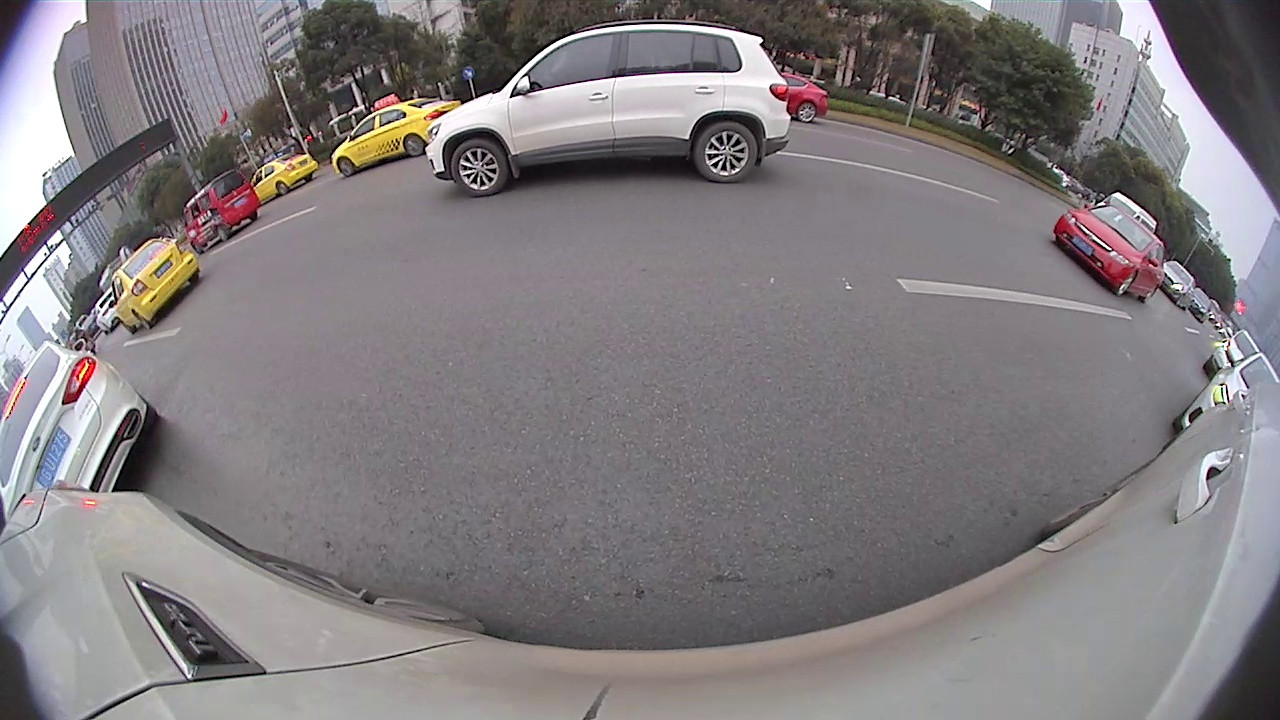car: (428, 22, 787, 194), (1, 343, 156, 526), (1051, 203, 1167, 301), (330, 99, 460, 176), (1178, 352, 1276, 437), (110, 239, 198, 329), (184, 168, 261, 254), (250, 153, 317, 203), (771, 77, 828, 119)
front: (448, 136, 510, 197), (1116, 270, 1138, 298), (337, 155, 356, 178)
rear: (694, 124, 759, 186), (401, 134, 426, 157), (797, 98, 817, 121)
